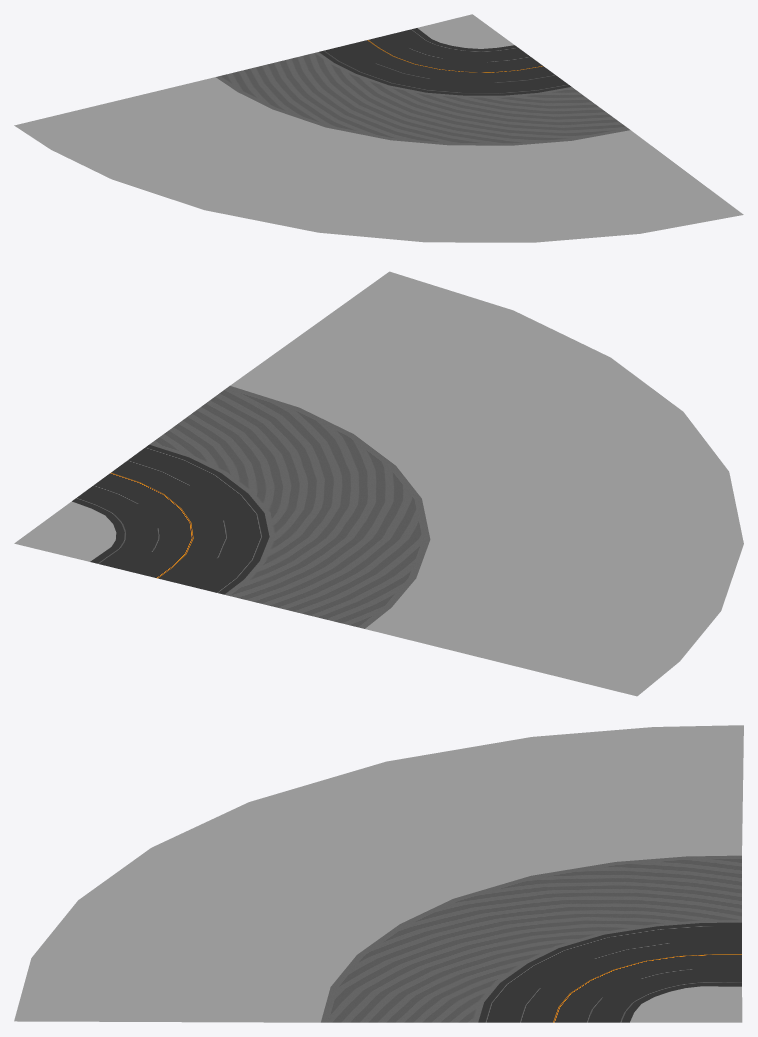
The model's file is small_turn.fbx.
3 renders of one model, top to bottom at view 1: azimuth 30°, elevation 25°; view 2: azimuth 150°, elevation 25°; view 3: azimuth 270°, elevation 25°, orthographic. The views are drawn at different scales.
Visible parts, largest first — view 1: polySurface44, polySurface43, polySurface45, polySurface46; view 2: polySurface44, polySurface43, polySurface45, polySurface46; view 3: polySurface44, polySurface43, polySurface45, polySurface46.
Boxes of the visible parts, bbox=[...] form: polySurface44: bbox=[14, 77, 743, 242]; polySurface43: bbox=[216, 52, 630, 145]; polySurface45: bbox=[319, 28, 571, 95]; polySurface46: bbox=[417, 14, 514, 48]; polySurface44: bbox=[230, 271, 743, 696]; polySurface43: bbox=[149, 386, 430, 628]; polySurface45: bbox=[72, 444, 269, 594]; polySurface46: bbox=[14, 501, 116, 561]; polySurface44: bbox=[14, 725, 743, 1022]; polySurface43: bbox=[321, 855, 741, 1022]; polySurface45: bbox=[478, 922, 741, 1022]; polySurface46: bbox=[630, 986, 742, 1022].
Size of the model in its own units: 9137 by 0.0014 by 9470.
